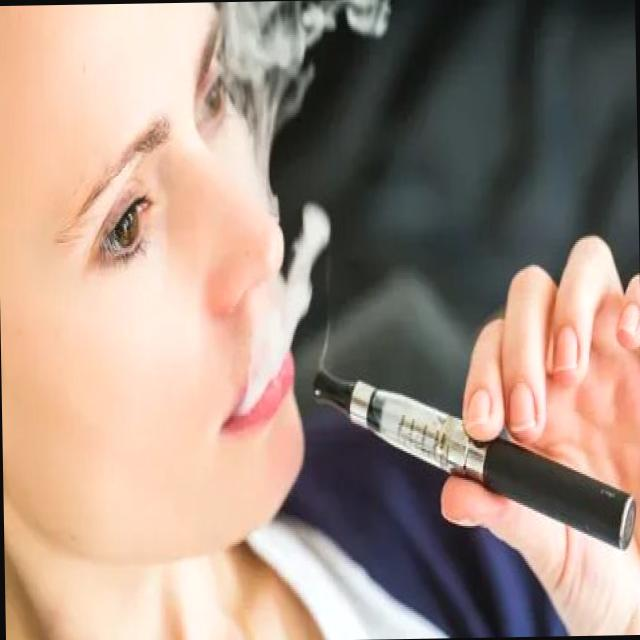cigarette: (311, 356, 640, 564)
